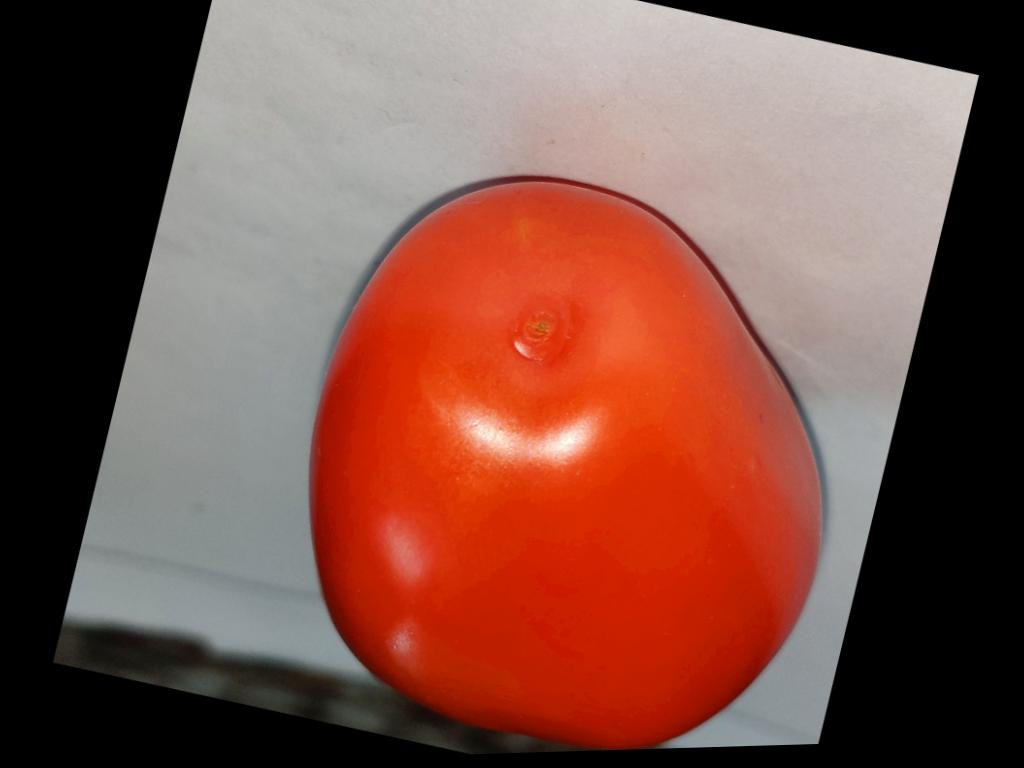tomato: (310, 182, 820, 747)
